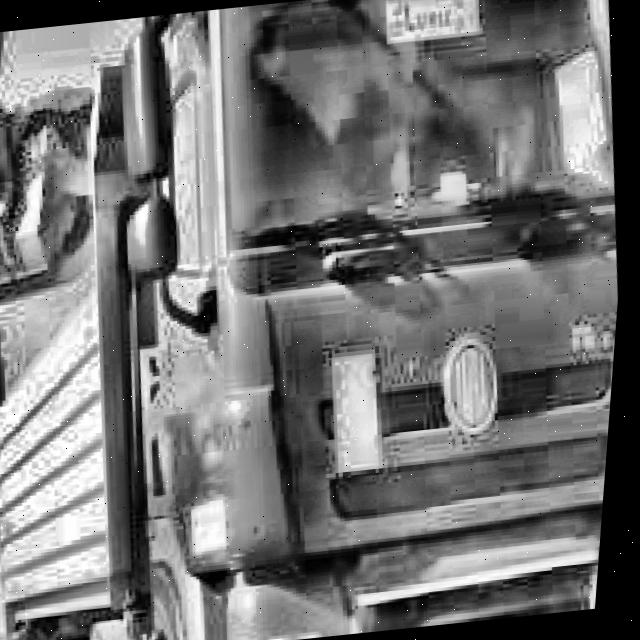dump_truck: (0, 0, 640, 640)
excavator: (0, 7, 266, 311)
